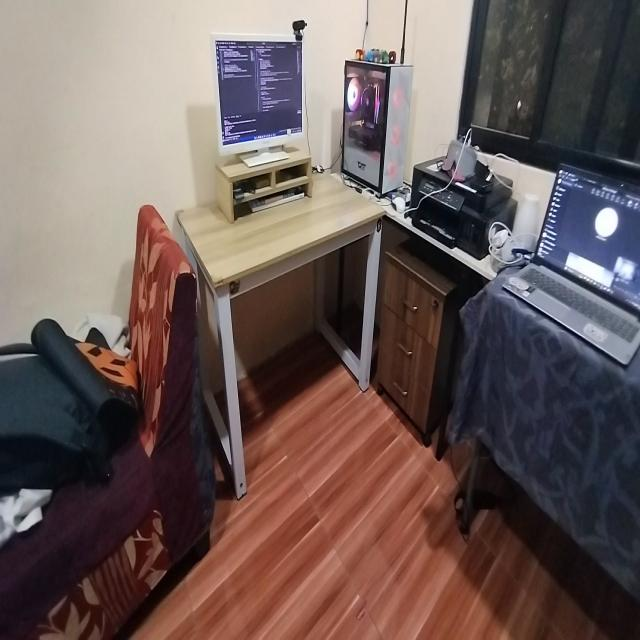table: (176, 163, 387, 484)
